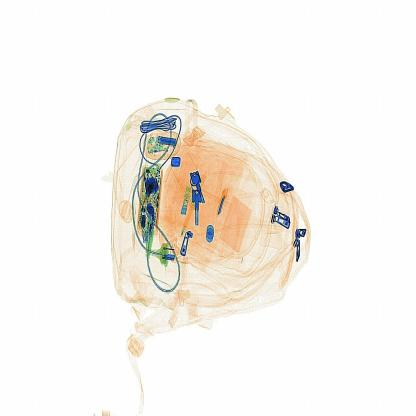pliers: (212, 180, 234, 222)
